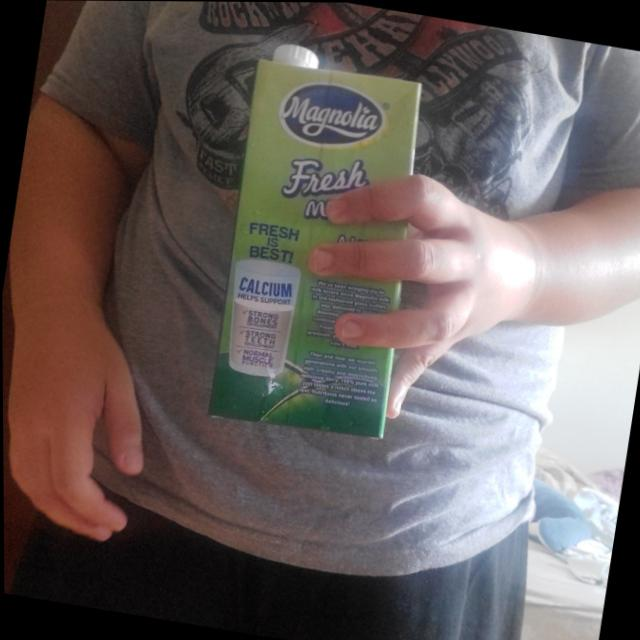milk: (200, 37, 442, 441)
